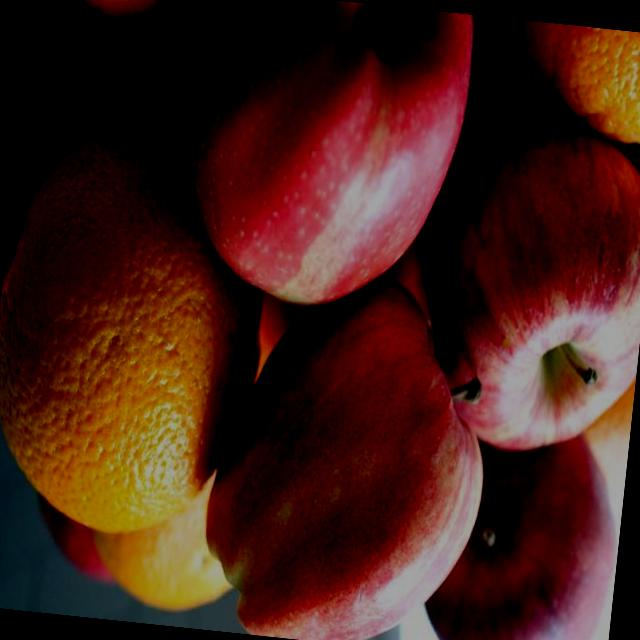Apple: (193, 262, 503, 640), (158, 0, 478, 322), (409, 102, 640, 467), (418, 418, 629, 640)
Orange: (0, 113, 285, 548), (91, 464, 248, 618), (492, 17, 640, 152), (30, 0, 174, 32)
